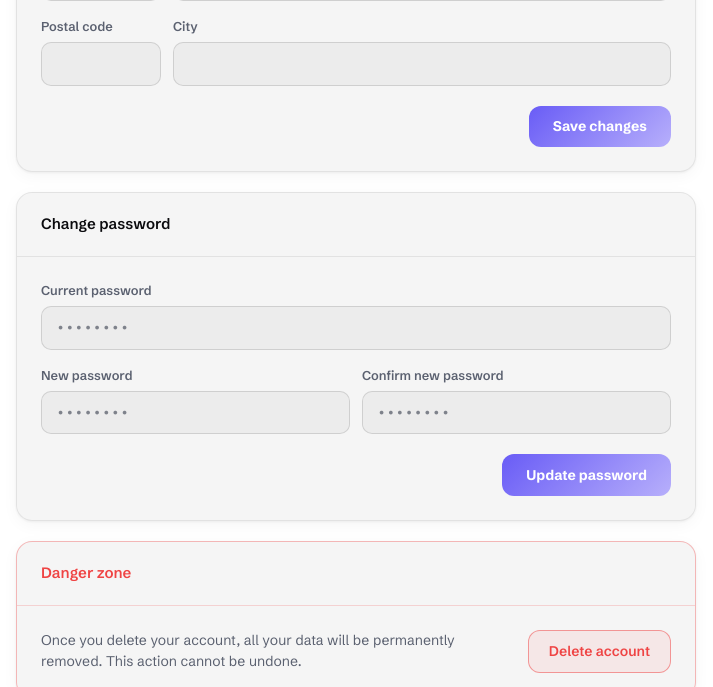
Scenario: ProfilePage › shows error when new passwords do not match
(page scrolled)
In the password field labelled "Current password": point(356, 328) [41,306,671,350], type "oldpass"
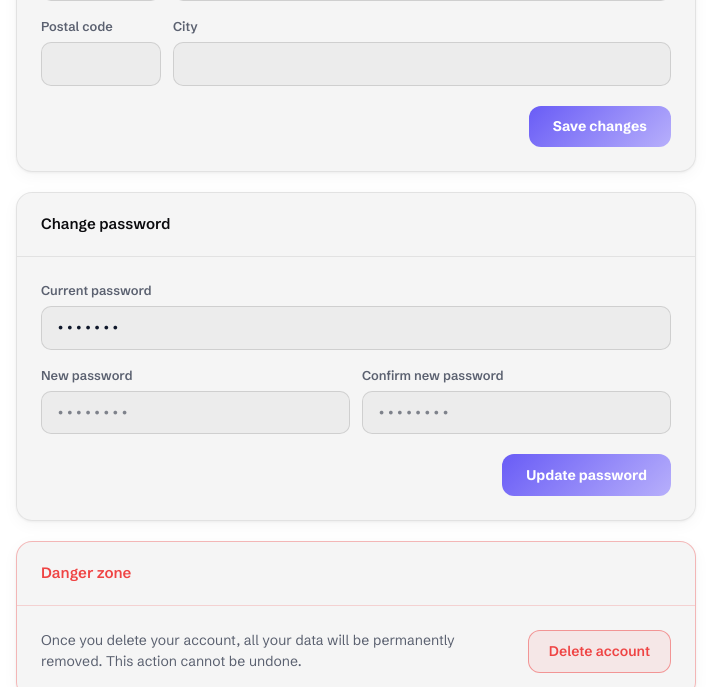
In the password field labelled "New password": point(196, 413) [41,391,350,434], type "newpass1"
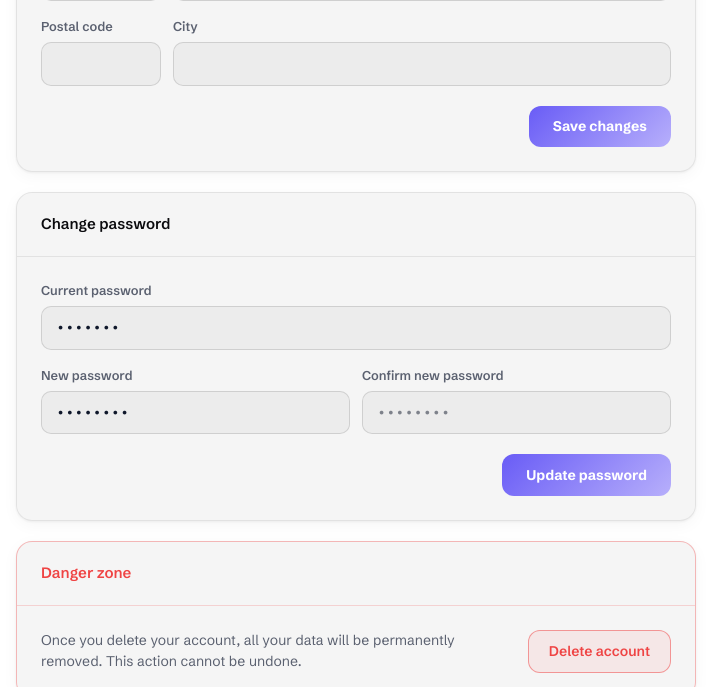
In the password field labelled "Confirm new password": point(516, 413) [362,391,671,434], type "newpass2"
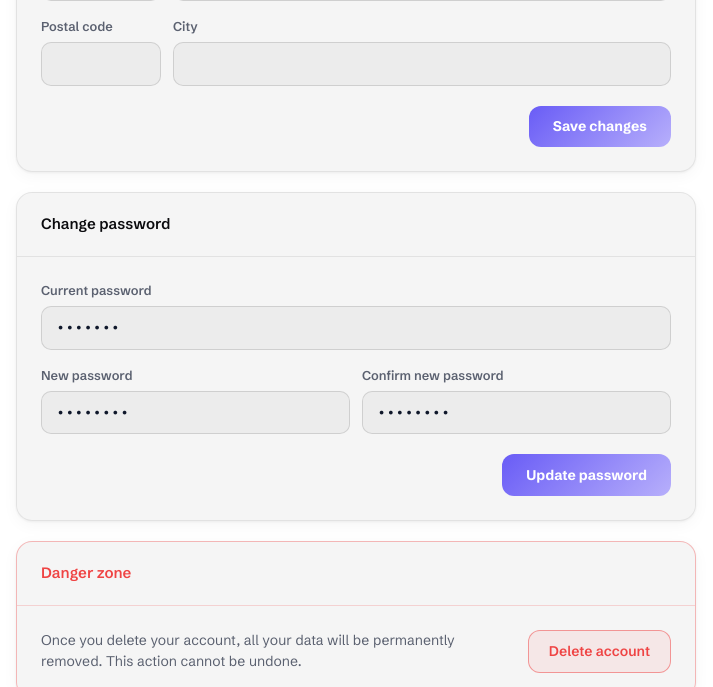
Click the button "Update password": point(587, 475) [502,454,671,496]
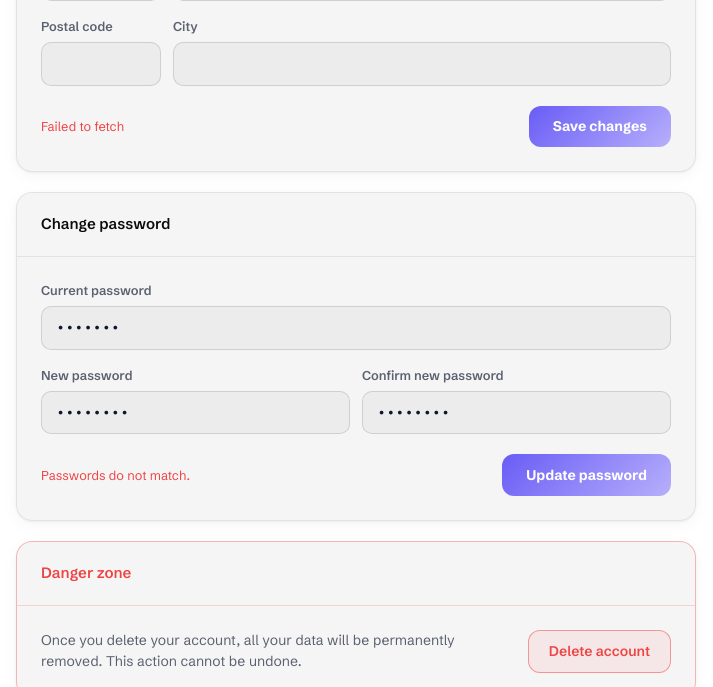
expect the text "Passwords do not match." is shown: met, box [41,466,190,485]
